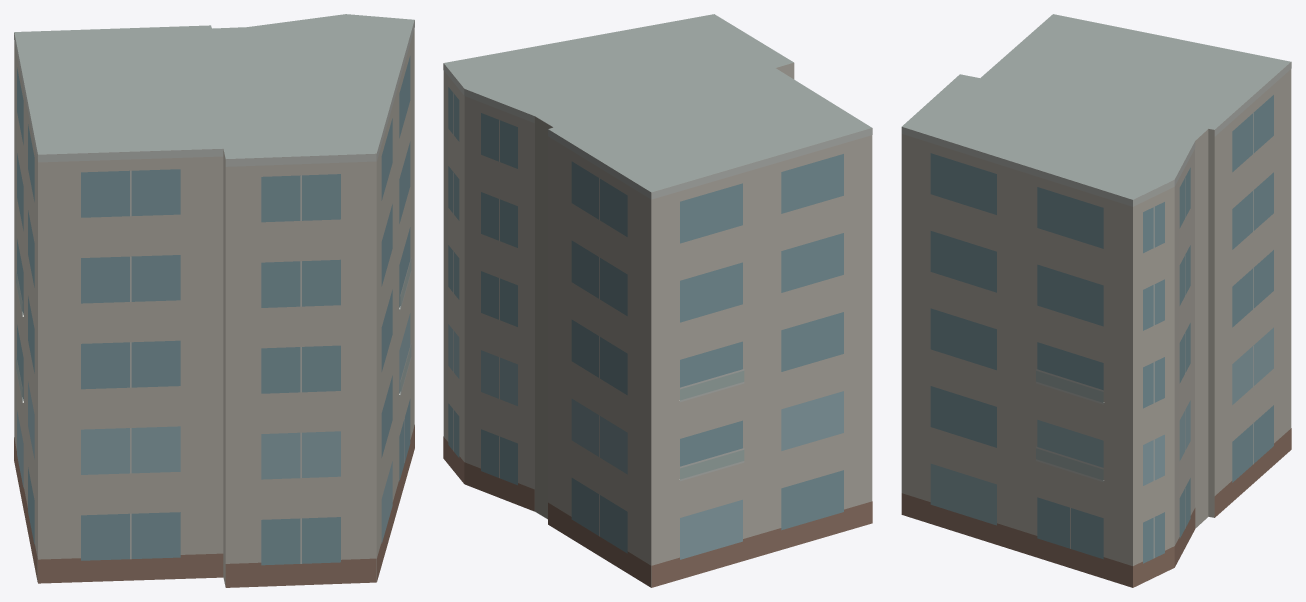
The model's file is survey-upis-32854778.glb.
3 views of the same model, side by side, from view 1: azimuth 30°, elevation 25°; view 2: azimuth 150°, elevation 25°; view 3: azimuth 270°, elevation 25° (orthographic). The views are drawn at different scales.
Visible parts, largest first — view 1: survey-upis-32854778.tmp; view 2: survey-upis-32854778.tmp; view 3: survey-upis-32854778.tmp.
Boxes of the visible parts, bbox=[...] form: survey-upis-32854778.tmp: bbox=[14, 14, 414, 587]; survey-upis-32854778.tmp: bbox=[443, 14, 872, 587]; survey-upis-32854778.tmp: bbox=[901, 14, 1291, 587].
Bounding box in the file's own units: 13.88 × 13.5 × 12.3.
